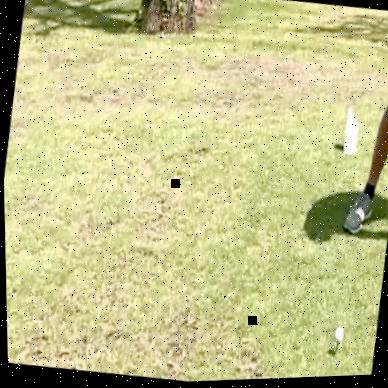ClubHead: (332, 329, 343, 346)
